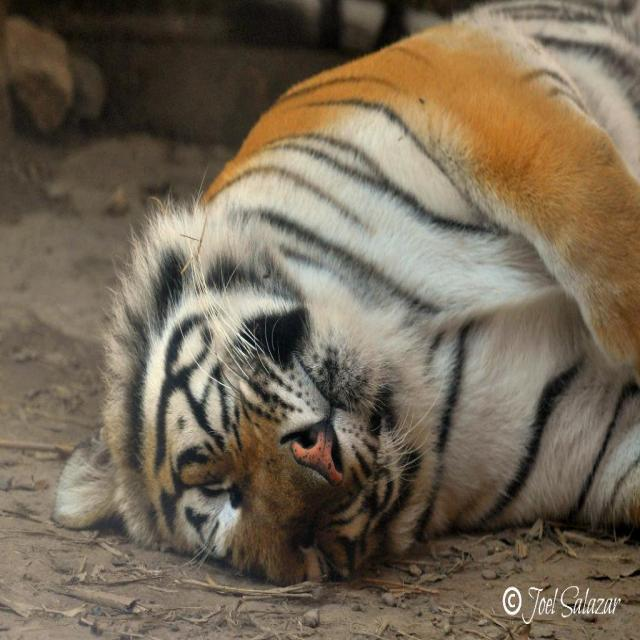Tiger: (53, 0, 640, 585)
